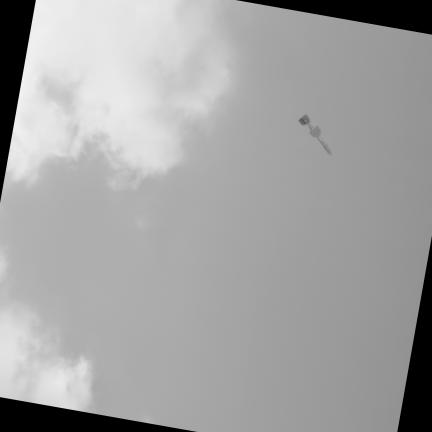Shahed: (298, 115, 331, 155)
